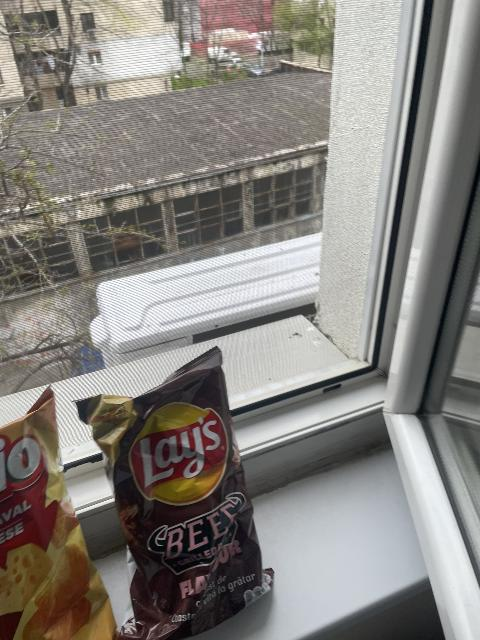Chio Cascaval 125g: (0, 383, 119, 639)
Lays Beef Grilled Ribs 125g: (76, 346, 277, 636)
